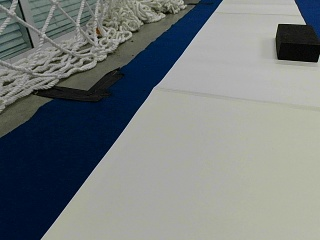block: (274, 23, 319, 60)
